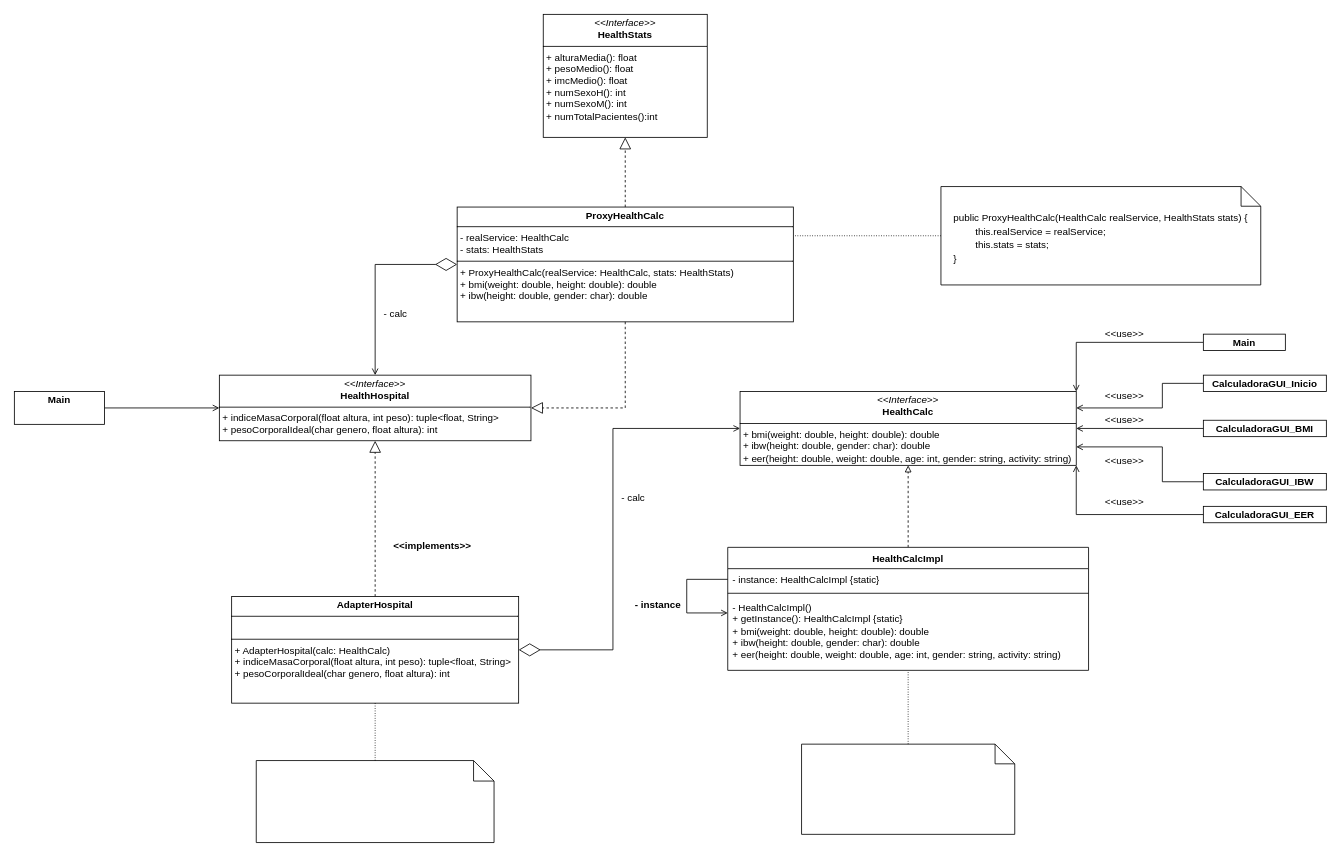
Some shapes in this 1341 by 865 pixel diagram are drawn without their labels. Here are the shapes that lost their labels. From the top down, the box of each, then its label:
(255, 760, 494, 843): public AdapterHospital (HealthCalc calc) { this.calc = calc; }
(801, 743, 1015, 834): if (instance==null) { instance = new HealthCalcImpl() } return instance;
